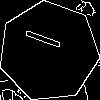I: (24, 26, 71, 55)
